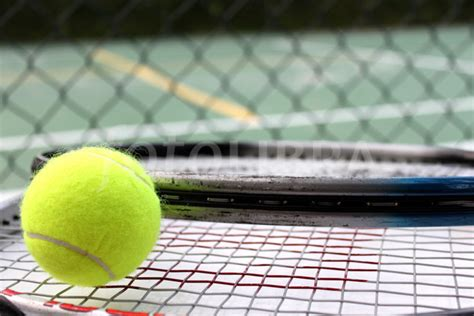tennis_ball: (20, 145, 161, 286)
